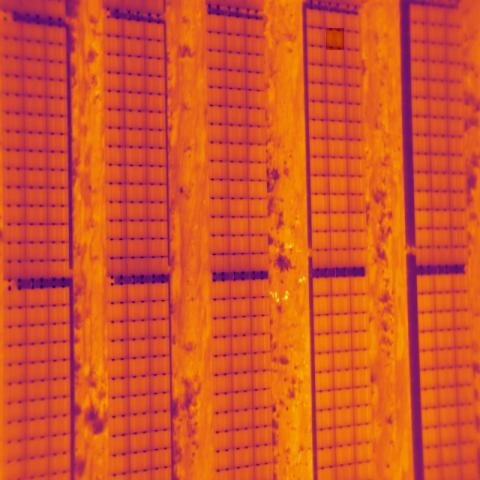fault: (326, 28, 344, 50)
